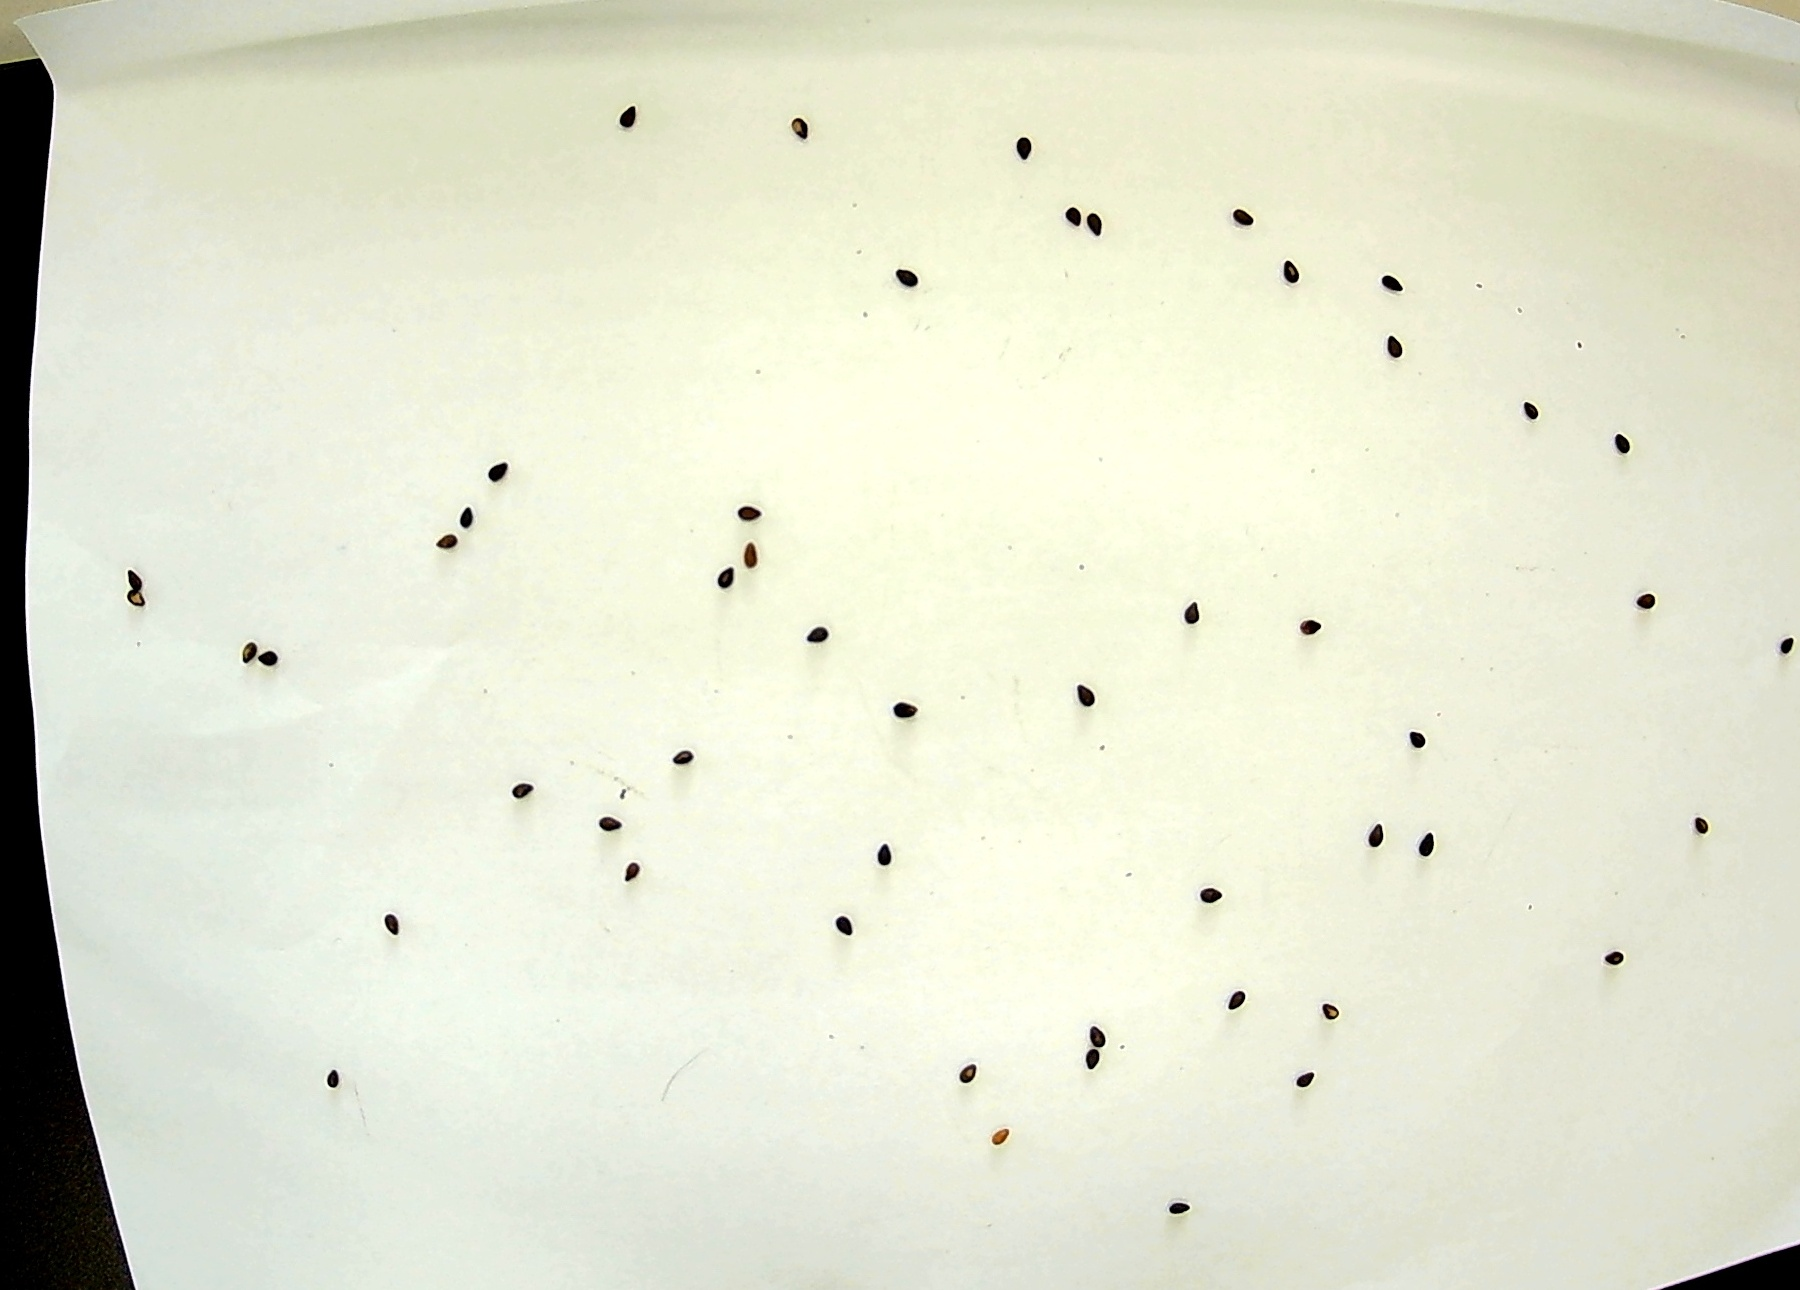sesami: (1268, 251, 1307, 295), (220, 631, 258, 676), (474, 445, 520, 482), (1187, 884, 1235, 919), (377, 914, 427, 947), (772, 112, 816, 147), (730, 500, 776, 533), (1314, 997, 1351, 1037), (1227, 984, 1260, 1028), (861, 838, 900, 874), (587, 808, 635, 838), (1358, 815, 1391, 856), (1380, 327, 1413, 366), (497, 780, 546, 807), (1373, 261, 1409, 296), (703, 563, 742, 595), (1600, 426, 1640, 458), (1284, 611, 1326, 641), (893, 264, 927, 300), (1080, 1021, 1119, 1051), (735, 535, 769, 570), (1007, 130, 1040, 166), (1065, 680, 1100, 712), (660, 741, 699, 769), (611, 861, 654, 887), (1228, 202, 1261, 235), (1073, 212, 1108, 243), (1688, 807, 1719, 842), (949, 1060, 980, 1095), (1633, 584, 1662, 620), (801, 623, 834, 653), (1285, 1060, 1319, 1090), (1416, 824, 1439, 868), (822, 912, 864, 935), (1058, 193, 1081, 235), (1080, 1046, 1111, 1076), (1162, 1191, 1192, 1223), (610, 107, 643, 135), (1515, 396, 1540, 433), (315, 1069, 354, 1092), (1603, 945, 1633, 974), (121, 591, 153, 616), (1769, 631, 1800, 655), (1178, 596, 1199, 630), (261, 645, 287, 670), (887, 699, 922, 718), (1404, 725, 1427, 751), (424, 531, 458, 549), (449, 507, 474, 531), (119, 570, 153, 586), (989, 1127, 1010, 1148)
